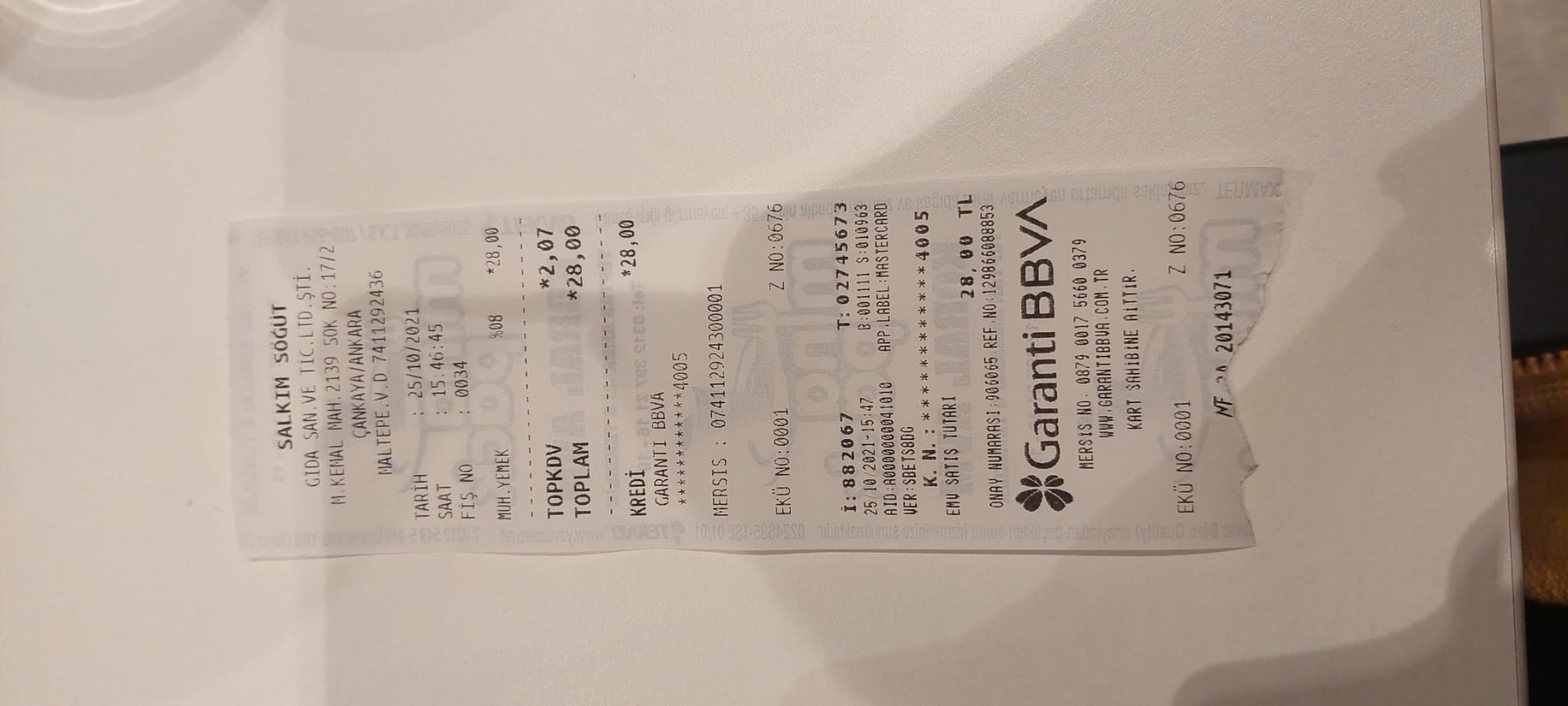date: (557, 221, 590, 294)
price: (402, 306, 426, 405)
workplace: (259, 233, 374, 518)
